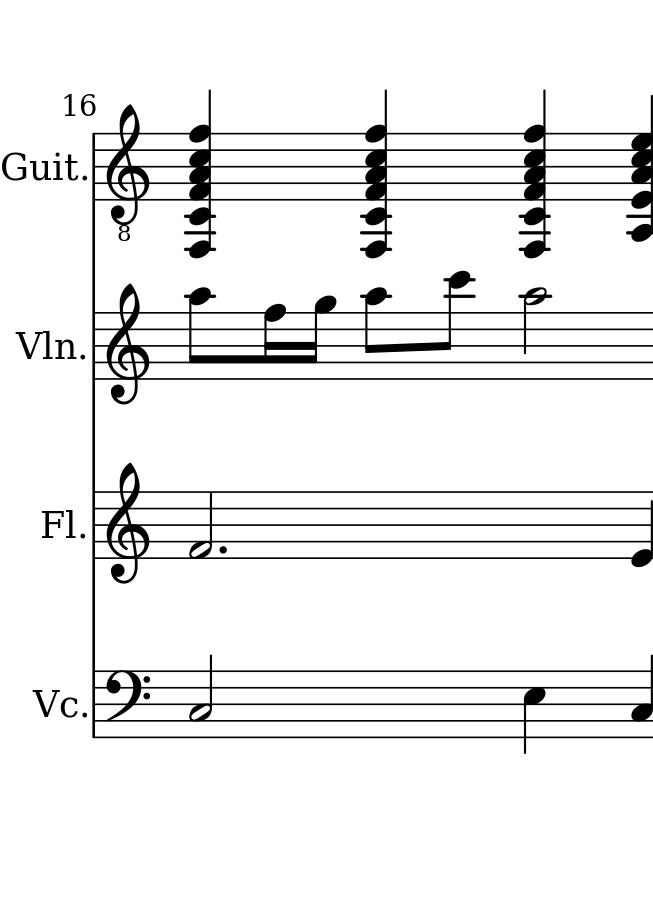1: (63, 92, 75, 119)
16_8: (262, 303, 288, 384)
16_9: (301, 294, 338, 383)
2_1: (189, 490, 216, 565)
2_10: (519, 286, 553, 385)
2_3: (189, 654, 216, 738)
6: (79, 91, 97, 122)
8_10: (361, 285, 389, 383), (186, 285, 213, 383)
8_12: (433, 269, 475, 382)
8_5: (522, 668, 547, 758)
Fclef: (103, 669, 153, 741)
Fl: (40, 502, 81, 547)
Gclef: (102, 461, 154, 586), (104, 282, 151, 407)
Guit: (1, 146, 82, 187)
Lower_Gclef: (104, 99, 151, 244)
Single_barline: (87, 491, 103, 560), (87, 313, 103, 380), (87, 133, 102, 203), (87, 670, 101, 738)
Vc: (31, 685, 82, 721)
Vln: (12, 327, 76, 367)
dot: (216, 541, 228, 559)
